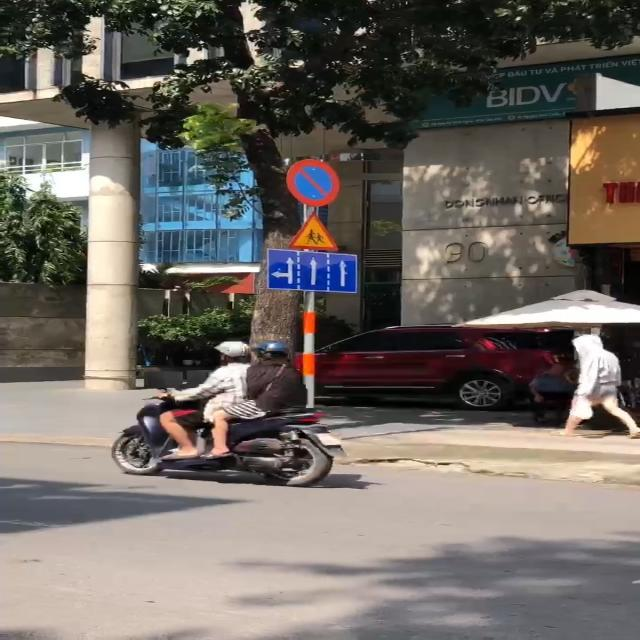Bien bao cam do xe: (285, 154, 351, 207)
Bien bao tre em: (273, 210, 351, 252)
